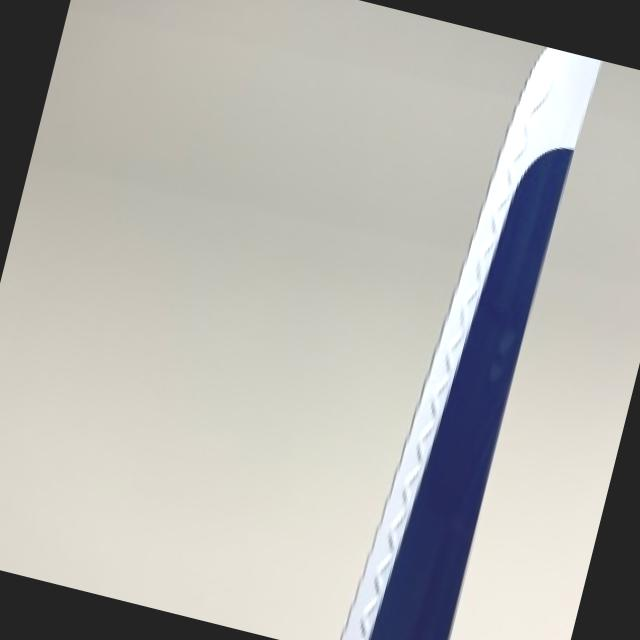healthy: (340, 46, 596, 640)
